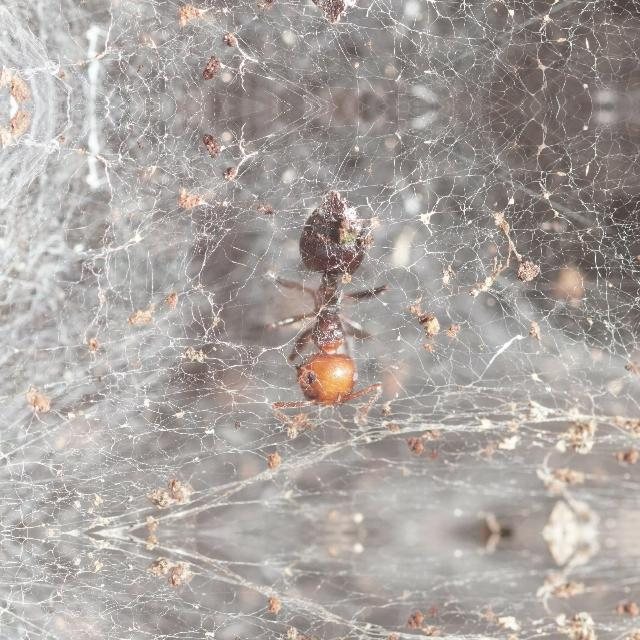Crematogaster: (278, 202, 382, 422)
